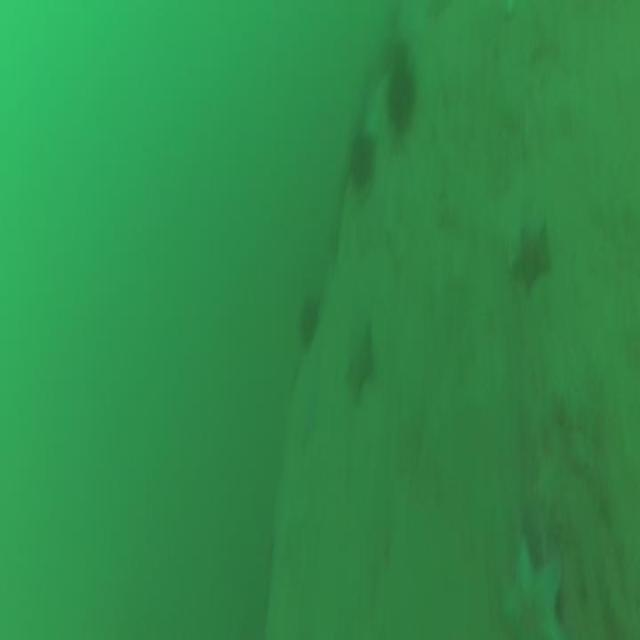echinus: (379, 63, 421, 136), (343, 120, 380, 198), (290, 294, 324, 355)
starfish: (499, 535, 566, 640), (337, 322, 379, 406), (508, 228, 552, 297)
